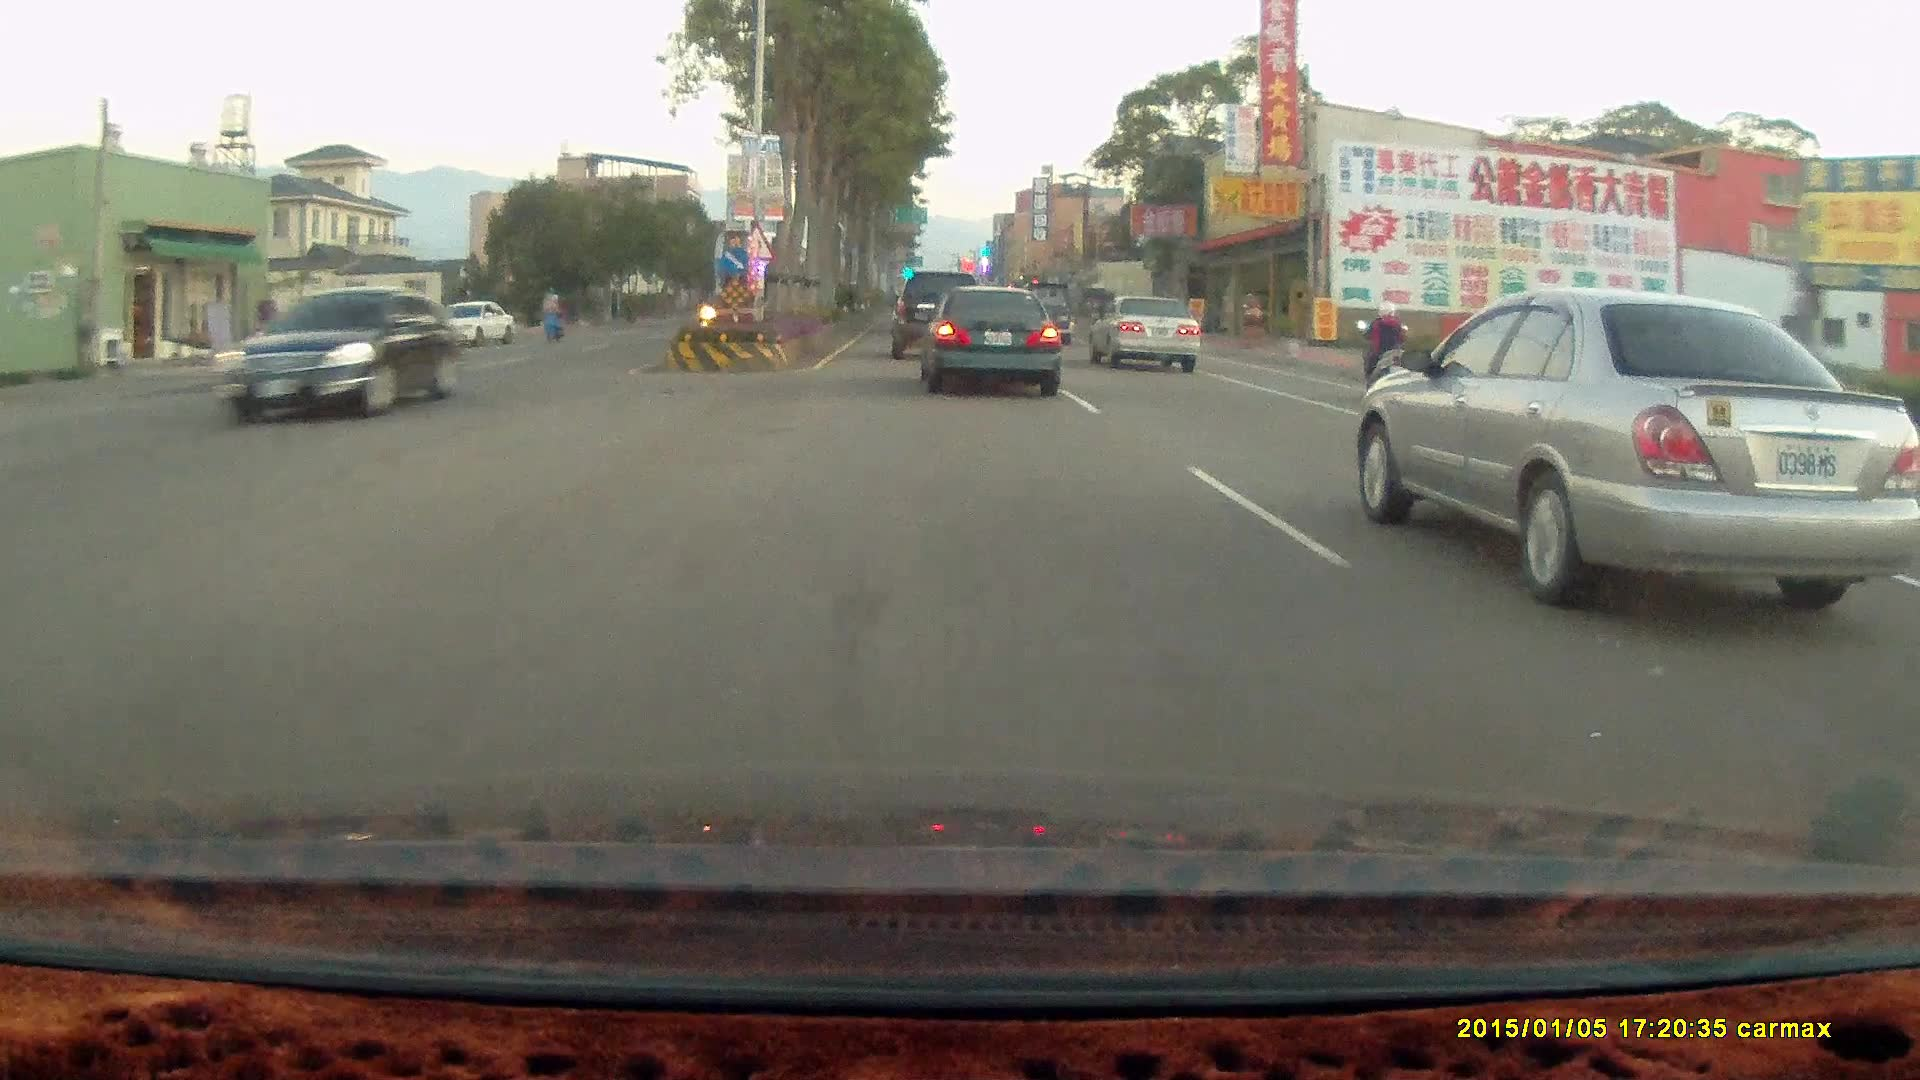rider: (1353, 294, 1417, 411), (1357, 299, 1407, 403), (538, 286, 566, 341)
vehicle: (1358, 288, 1920, 612), (209, 284, 463, 424), (223, 287, 460, 428), (916, 284, 1061, 397), (919, 286, 1063, 398), (890, 269, 985, 363), (1087, 294, 1199, 373), (1093, 297, 1205, 375), (890, 276, 981, 365), (1006, 279, 1075, 345), (431, 299, 518, 349), (427, 298, 518, 346)
